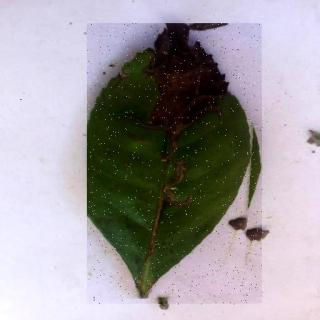Brown Blight: (89, 25, 264, 306)
